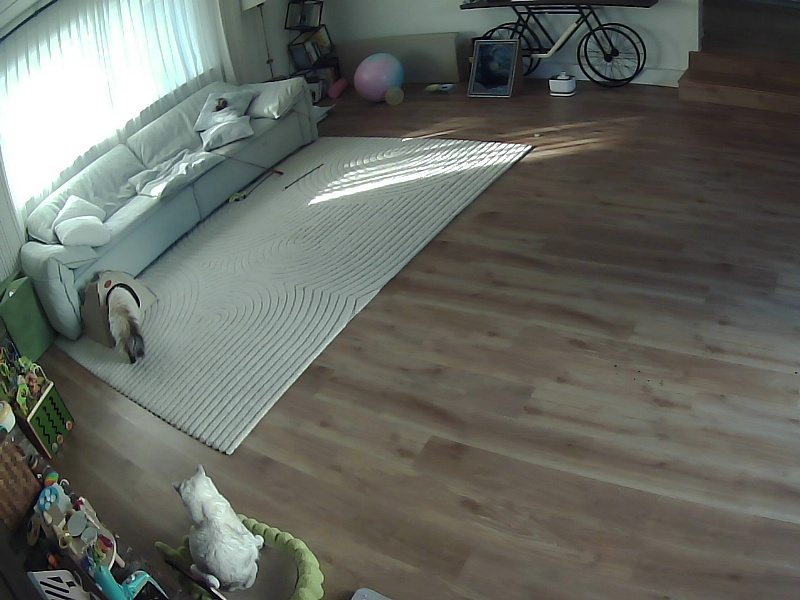Qb-2: (173, 465, 263, 590)
Qbo-2: (106, 284, 144, 363)
